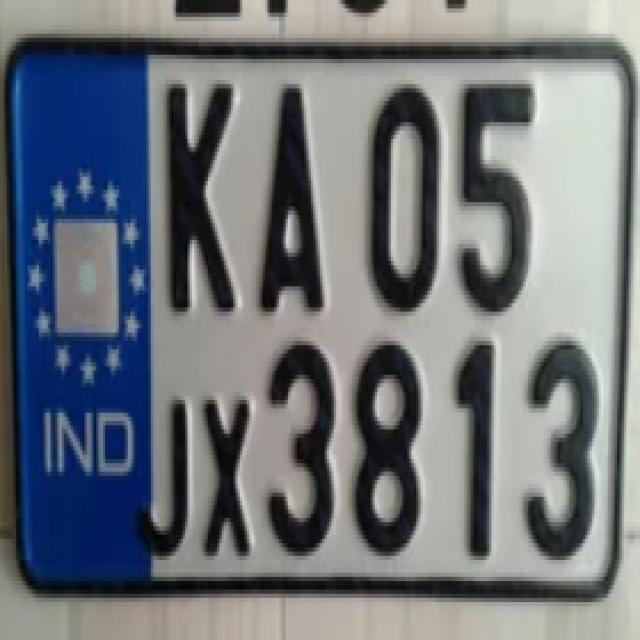0: (362, 69, 448, 312)
1: (452, 328, 499, 574)
3: (265, 333, 349, 574), (520, 332, 602, 570)
5: (459, 63, 551, 324)
8: (351, 334, 428, 575)
A: (255, 78, 328, 332)
J: (135, 388, 195, 568)
K: (160, 72, 241, 336)
X: (200, 388, 259, 576)
